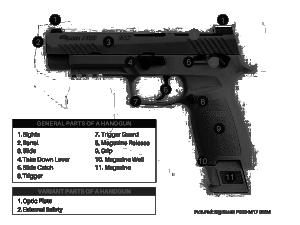handgun: (43, 22, 269, 197)
